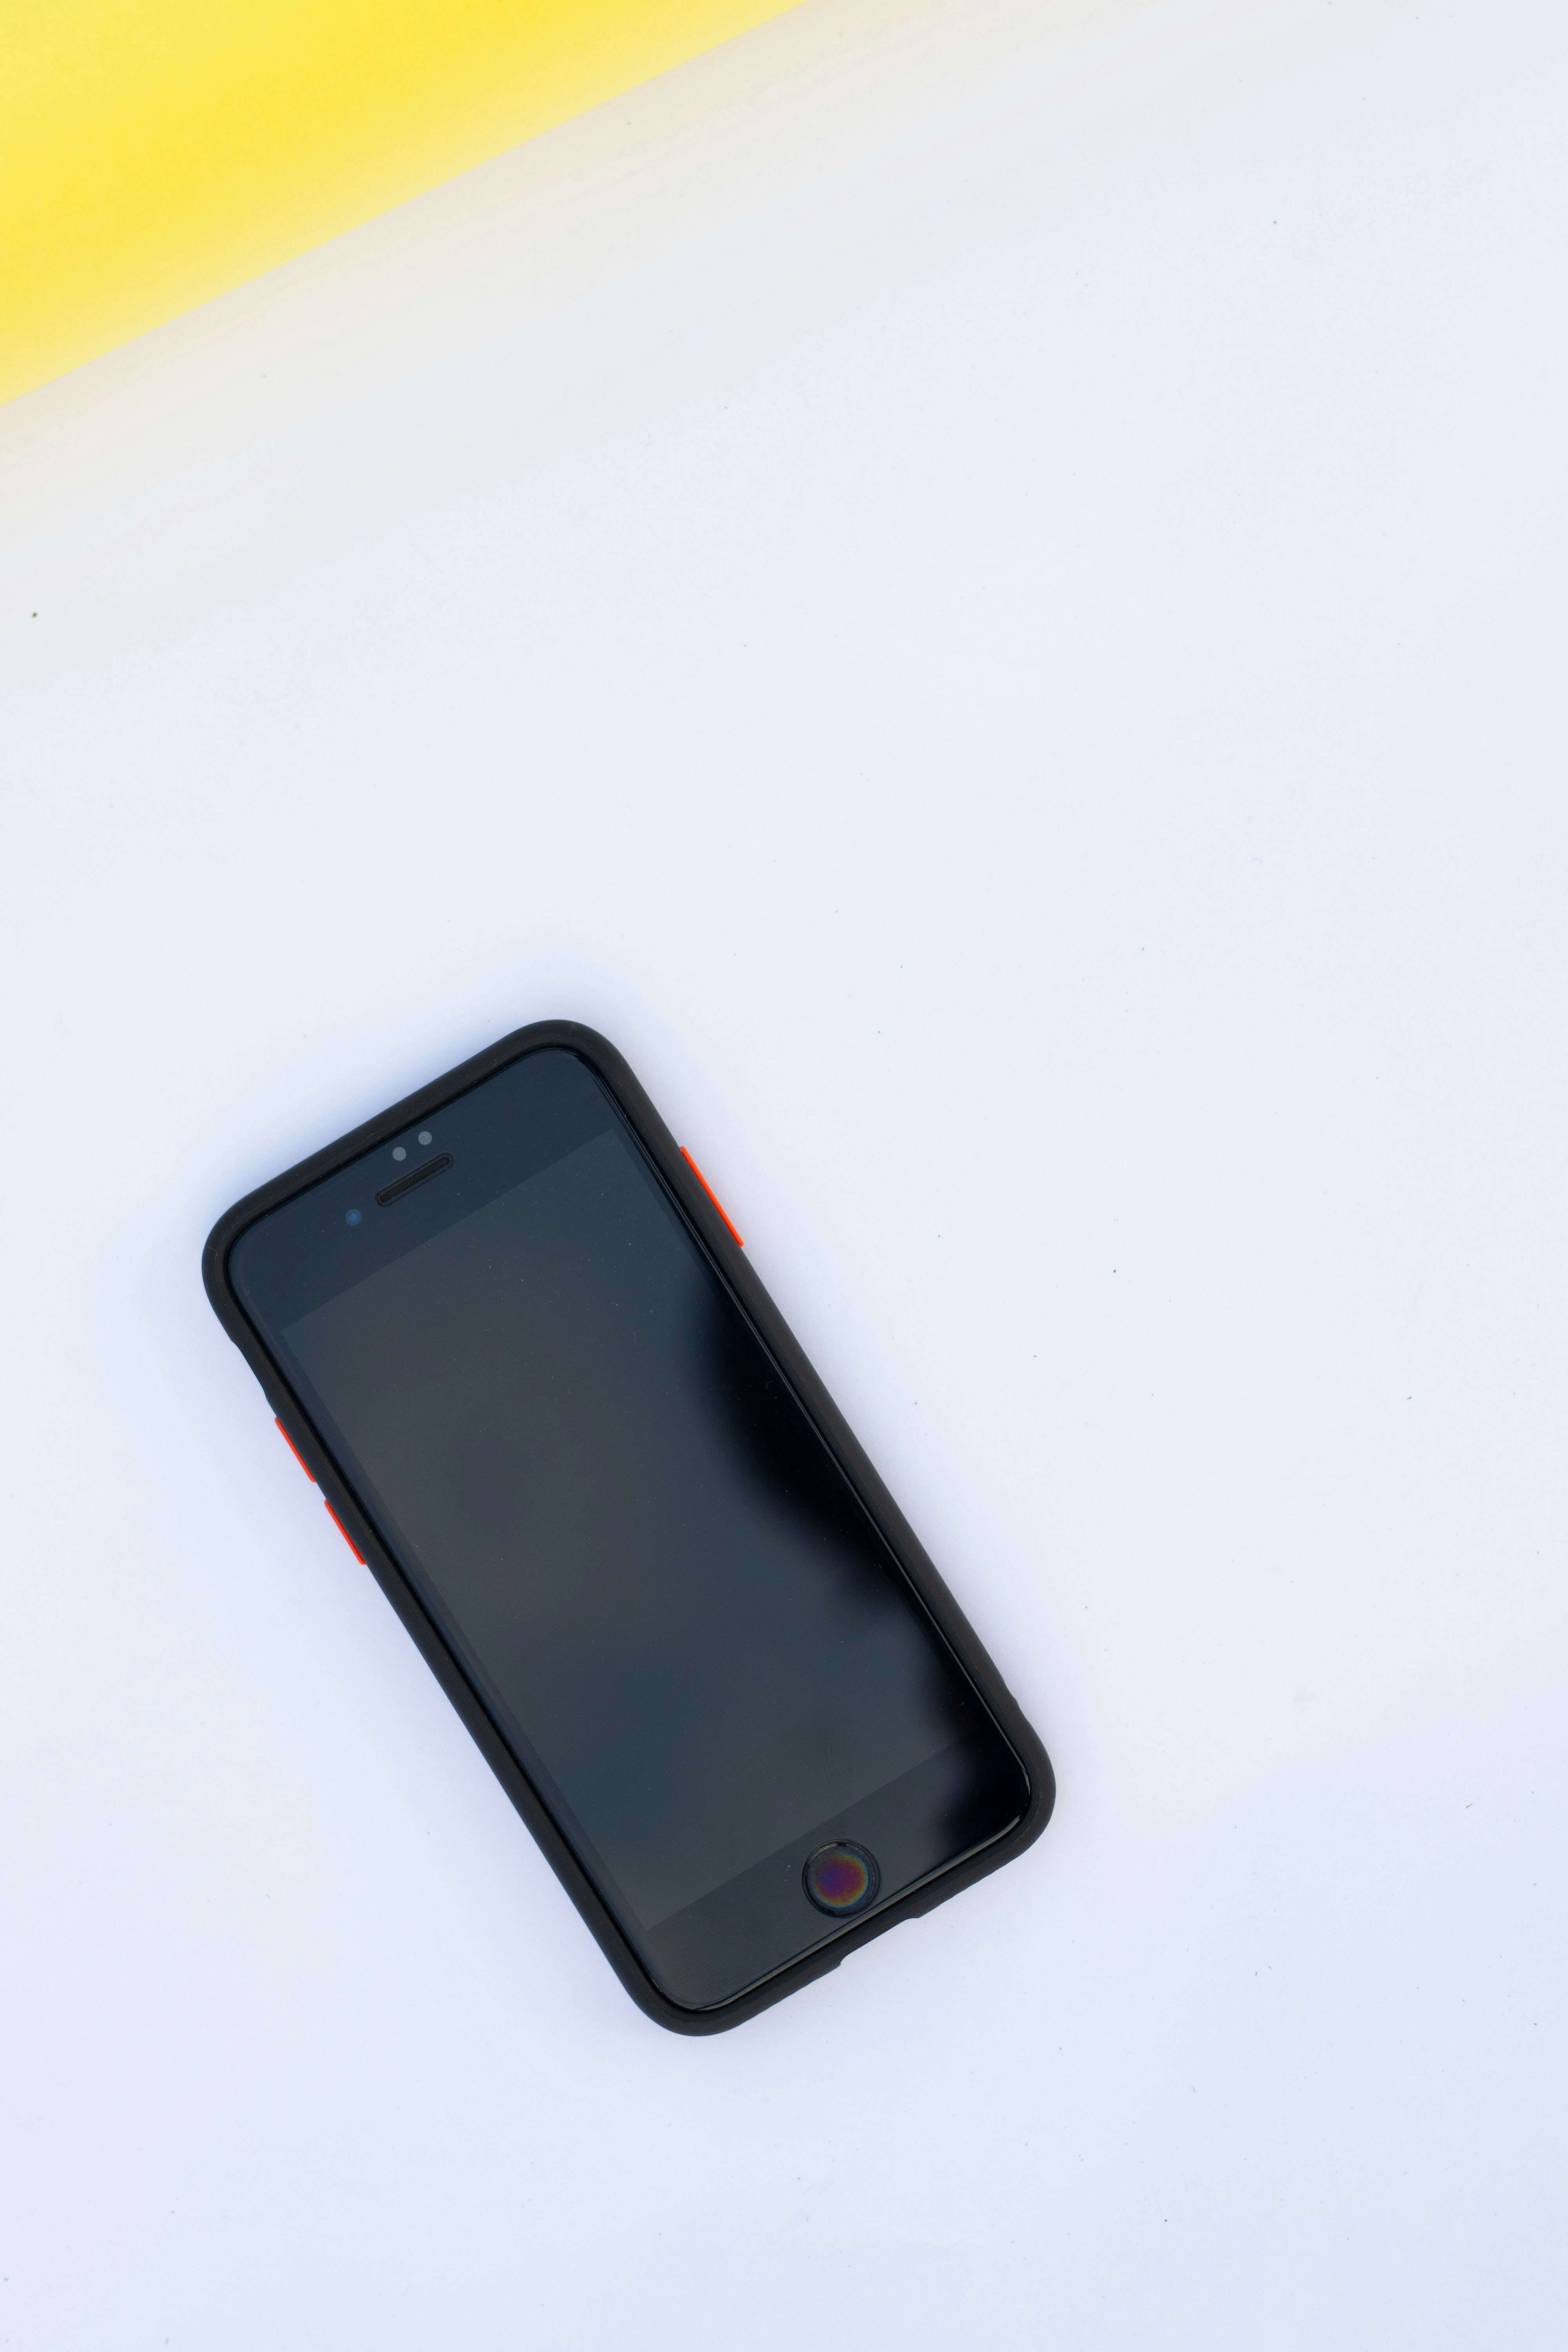p6: (187, 1025, 1146, 2028)
